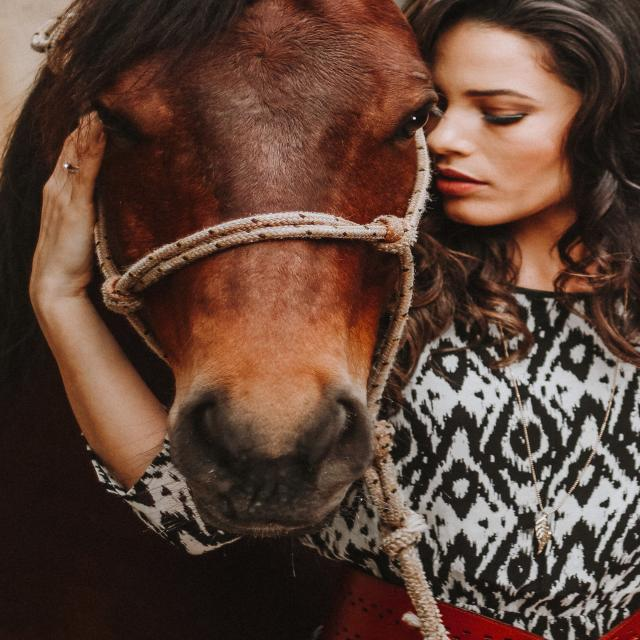adult: (349, 0, 640, 640)
